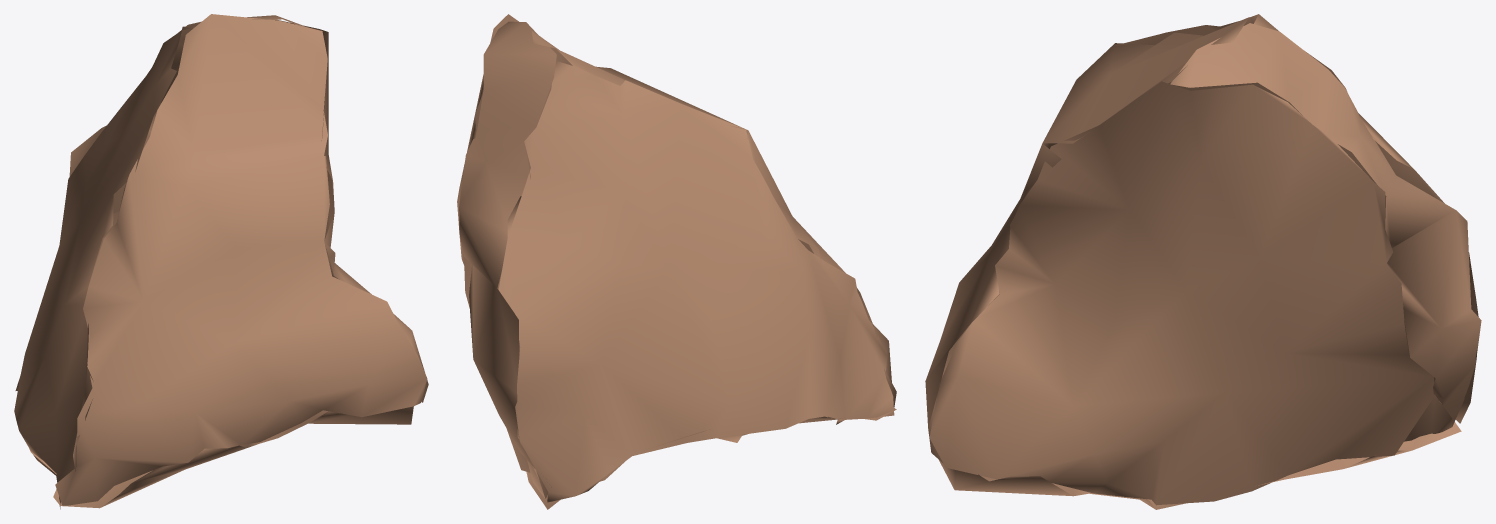
Rendered from mars-boulder-lod1.glb.
3 views of the same model, side by side, from view 1: azimuth 30°, elevation 25°; view 2: azimuth 150°, elevation 25°; view 3: azimuth 270°, elevation 25° (orthographic). The views are drawn at different scales.
Parts seen in each view (by area): view 1: mars-boulder.001; view 2: mars-boulder.001; view 3: mars-boulder.001.
Boxes of the visible parts, box(x1,y1,x2,y2) form: mars-boulder.001: box(14, 14, 428, 509); mars-boulder.001: box(457, 14, 896, 509); mars-boulder.001: box(925, 14, 1481, 509).
Size of the model in its own units: 2.34 by 2.41 by 2.63.
